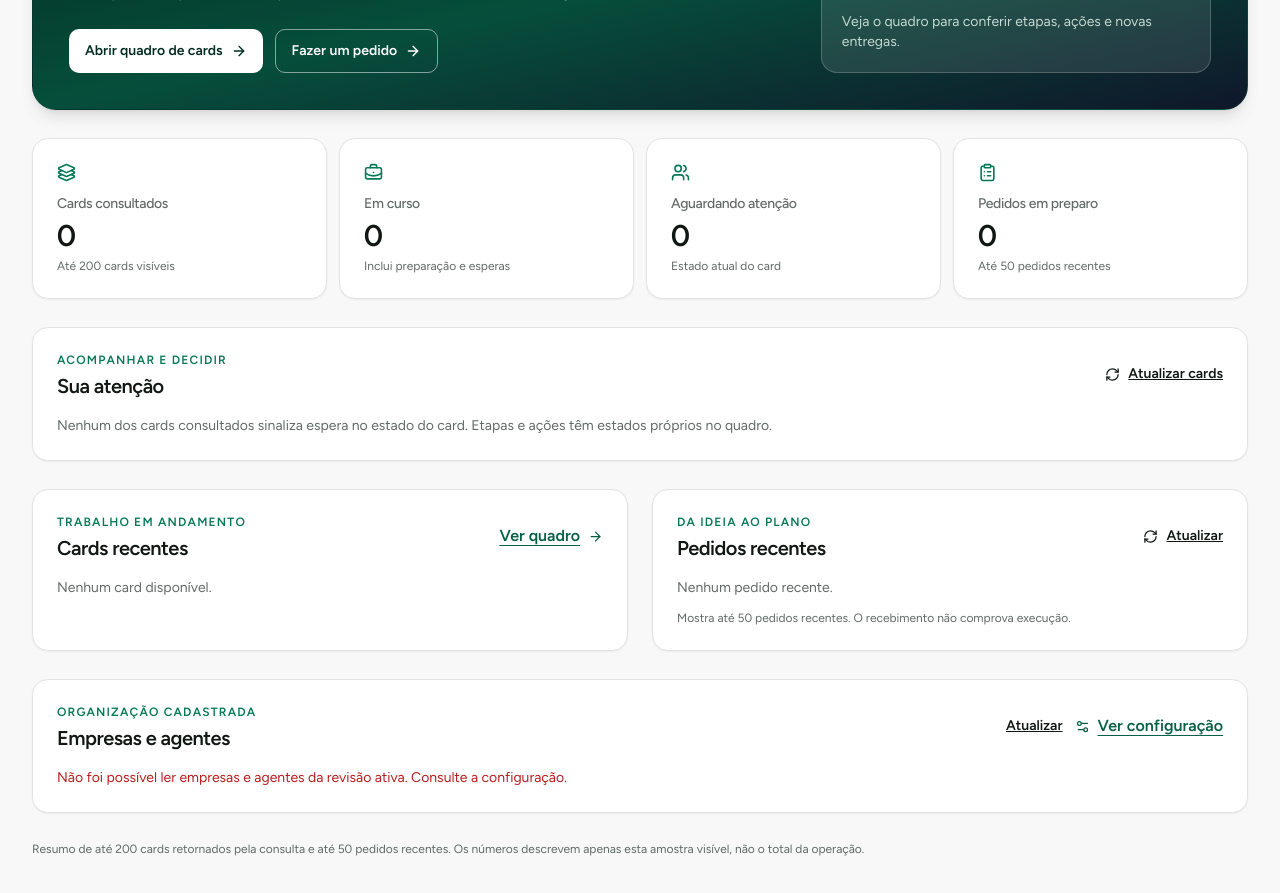
Test: não apresenta catálogo de revisão que deixou de ser a ativa entre as duas leituras
(page scrolled)
expect the message is shown: met, box [57,769,567,786]
expect the text "Humano Digital" is not shown: met
Click the button "Atualizar" next to "Ver configuração". click: coordinates (1034, 726)
box: [1006,704,1062,748]
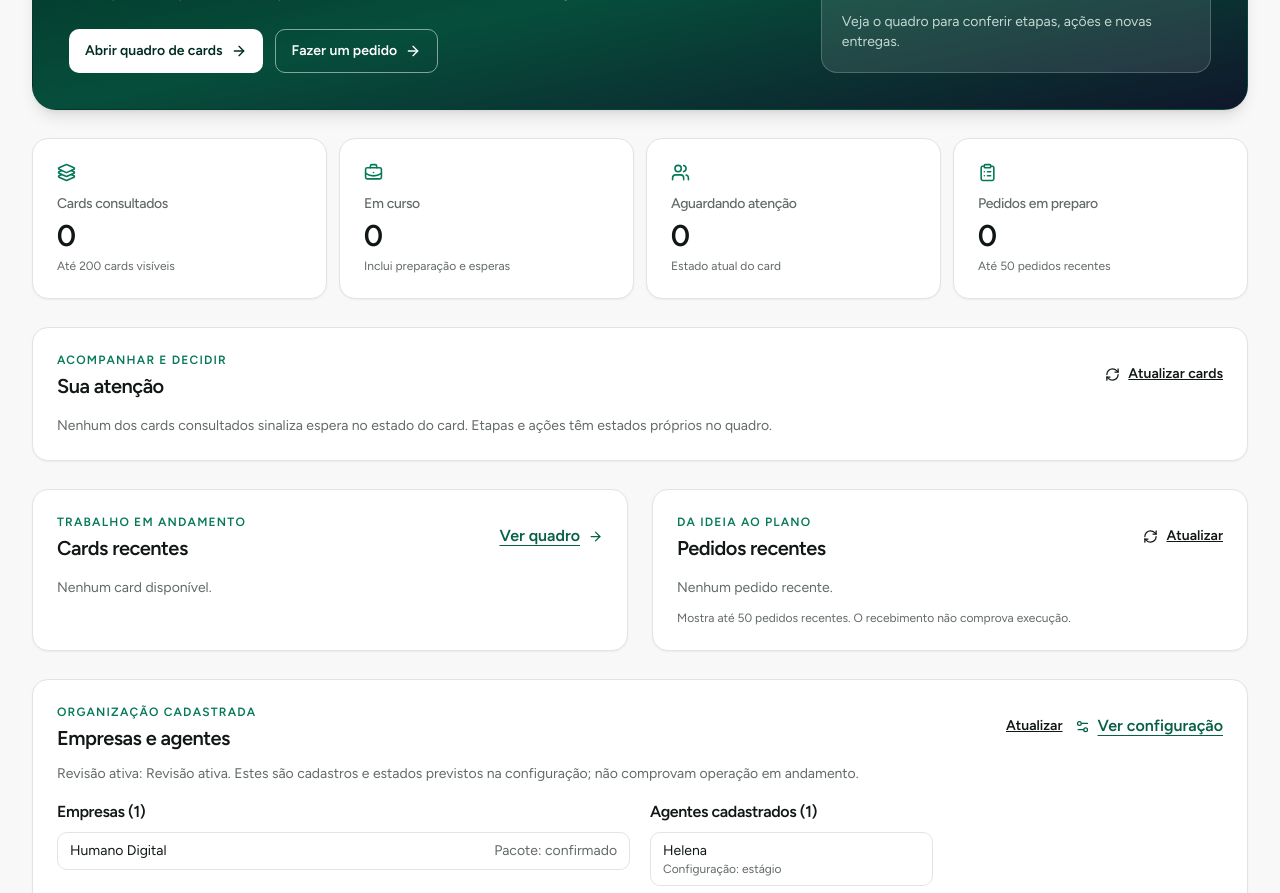
expect the text "Humano Digital" is shown: met, box [70,841,167,861]
